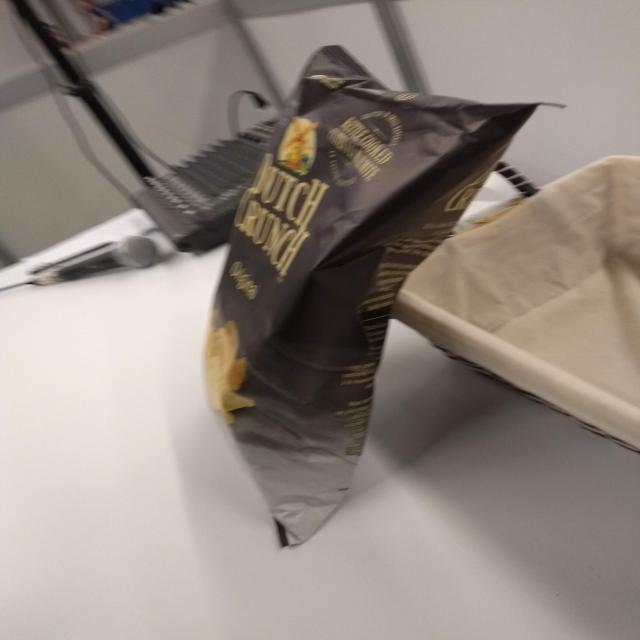potato_chips: (190, 43, 565, 549)
